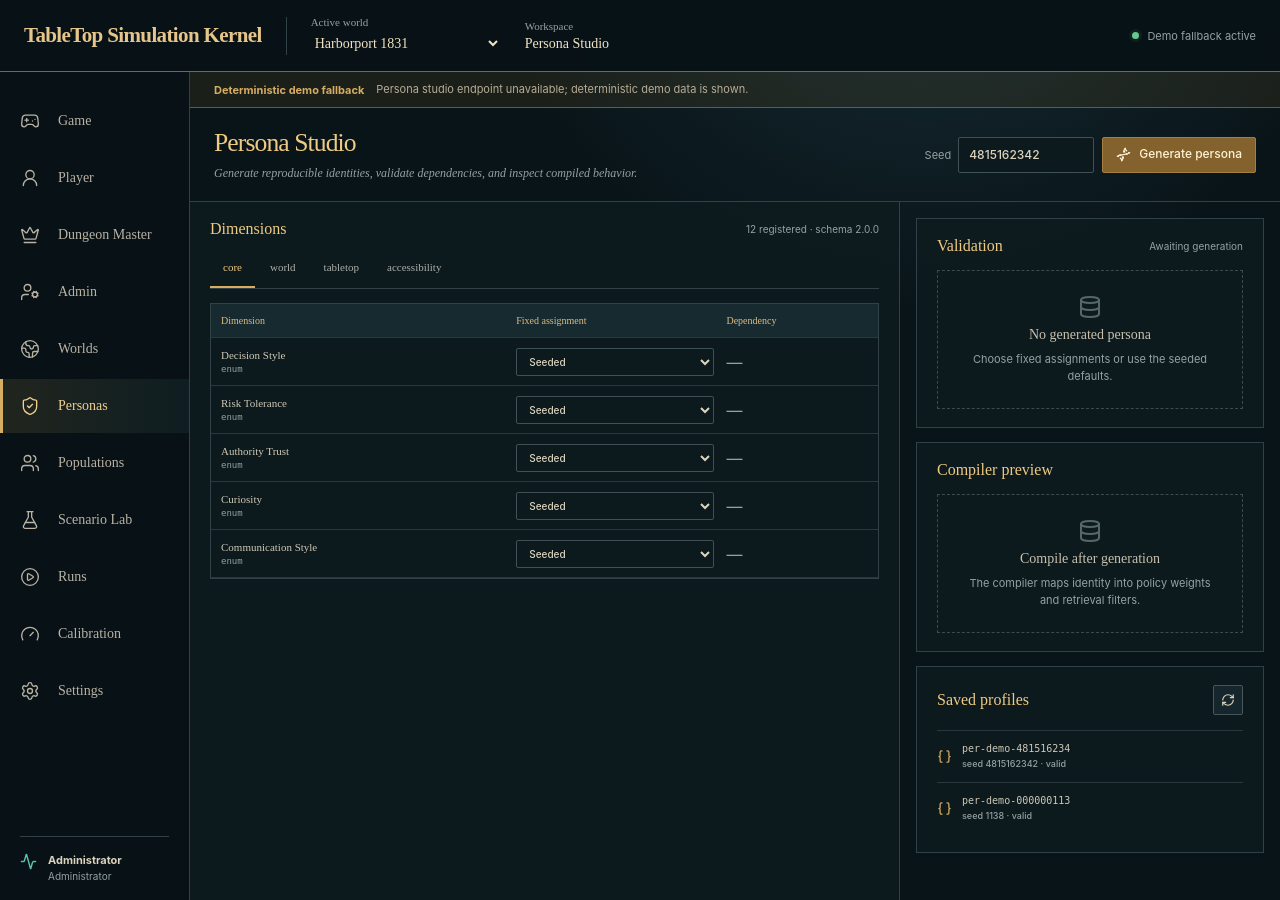
Scenario: simulation kernel application journeys › generates and validates a seeded persona
Expected: the heading "Persona Studio" is shown, [214,128,356,157]
Replace the text in the number field with test id "persona-seed" with "404": [1026, 154] box [958,136,1094,172]
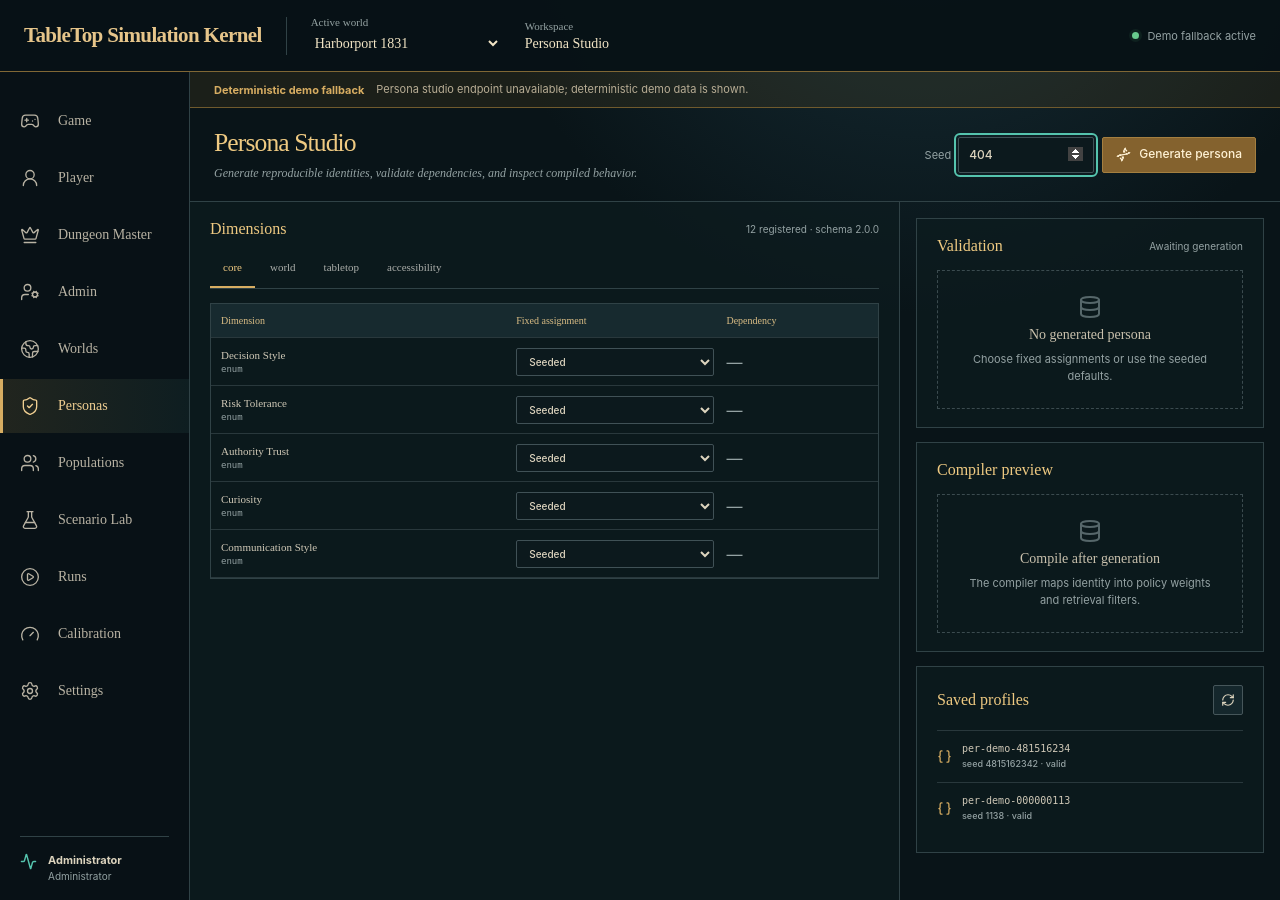
Click the button "Generate persona": [1179, 154] box [1102,136,1256,172]
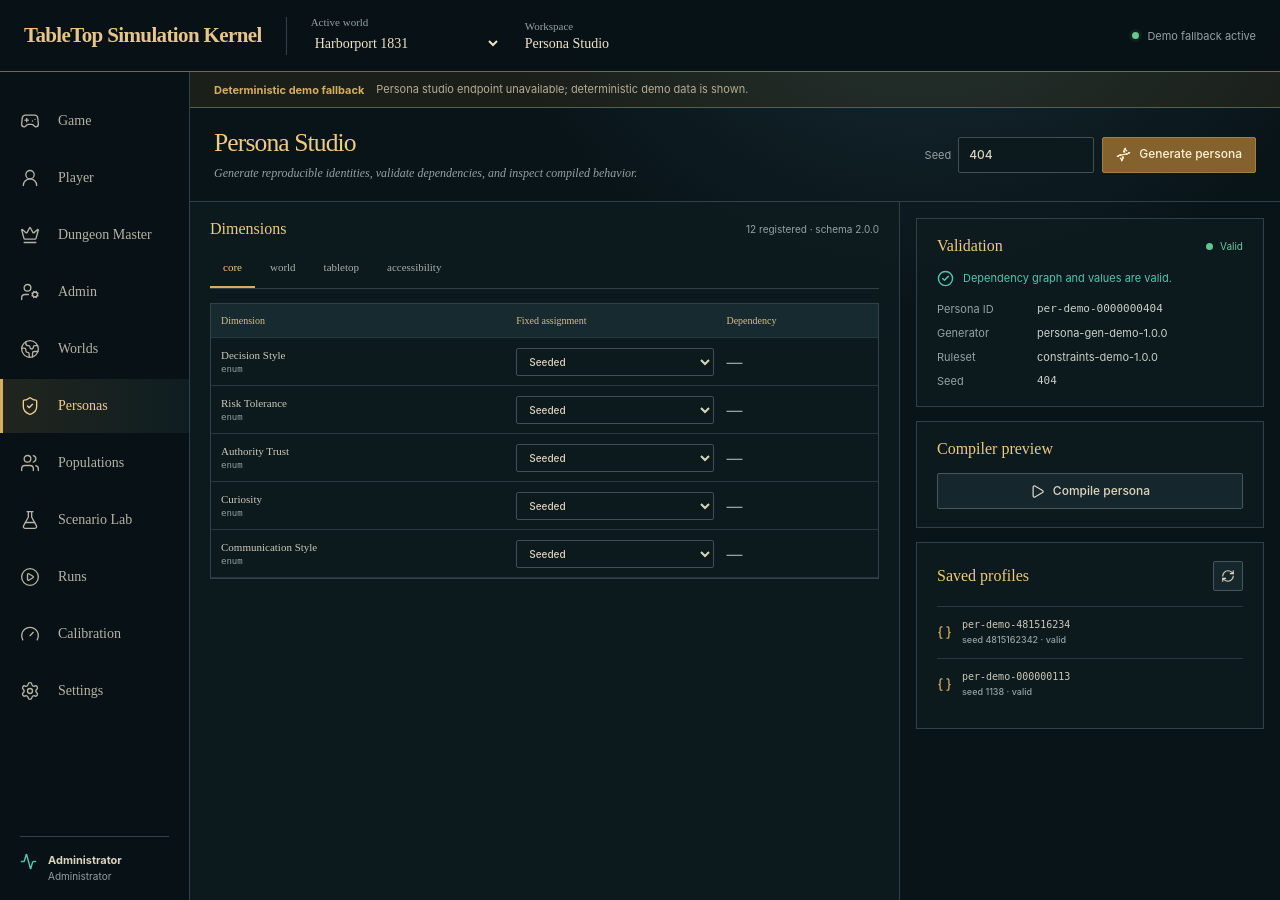
Result: the text "Dependency graph and values are valid." is shown at [937,270,1172,287]
Result: the element with test id "persona-validation" shows "404" at [1037,374,1057,387]
